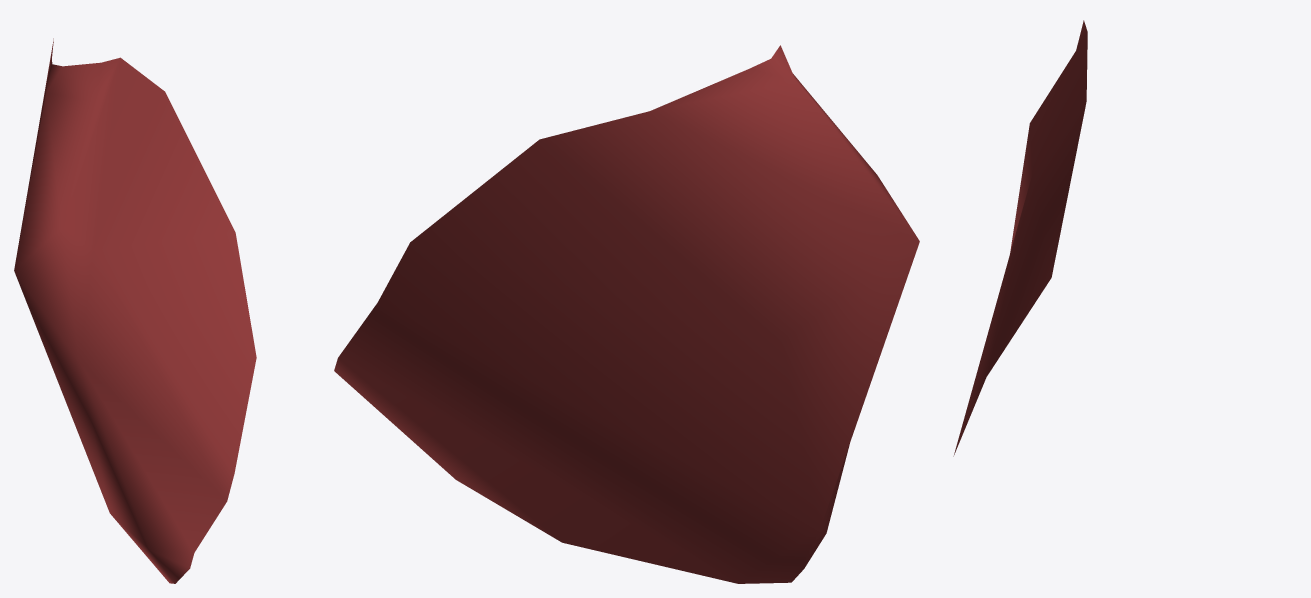
File: scalenus-medius-muscle-el.glb
3 renders of one model, left to right at view 1: azimuth 30°, elevation 25°; view 2: azimuth 150°, elevation 25°; view 3: azimuth 270°, elevation 25°, orthographic. The views are drawn at different scales.
Parts seen in each view (by area): view 1: Scalenus medius muscle.el; view 2: Scalenus medius muscle.el; view 3: Scalenus medius muscle.el.
Part boxes in pixels (left/top/right/bottom): Scalenus medius muscle.el: left=14, top=38, right=256, bottom=583; Scalenus medius muscle.el: left=334, top=45, right=919, bottom=583; Scalenus medius muscle.el: left=953, top=20, right=1087, bottom=456.
Size of the model in its own units: 0.00439 by 0.00547 by 0.00334.
